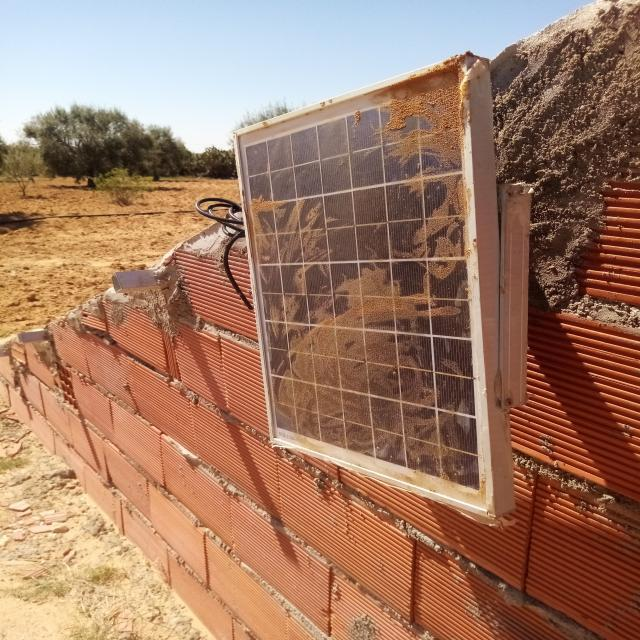faulty: (235, 58, 491, 516)
